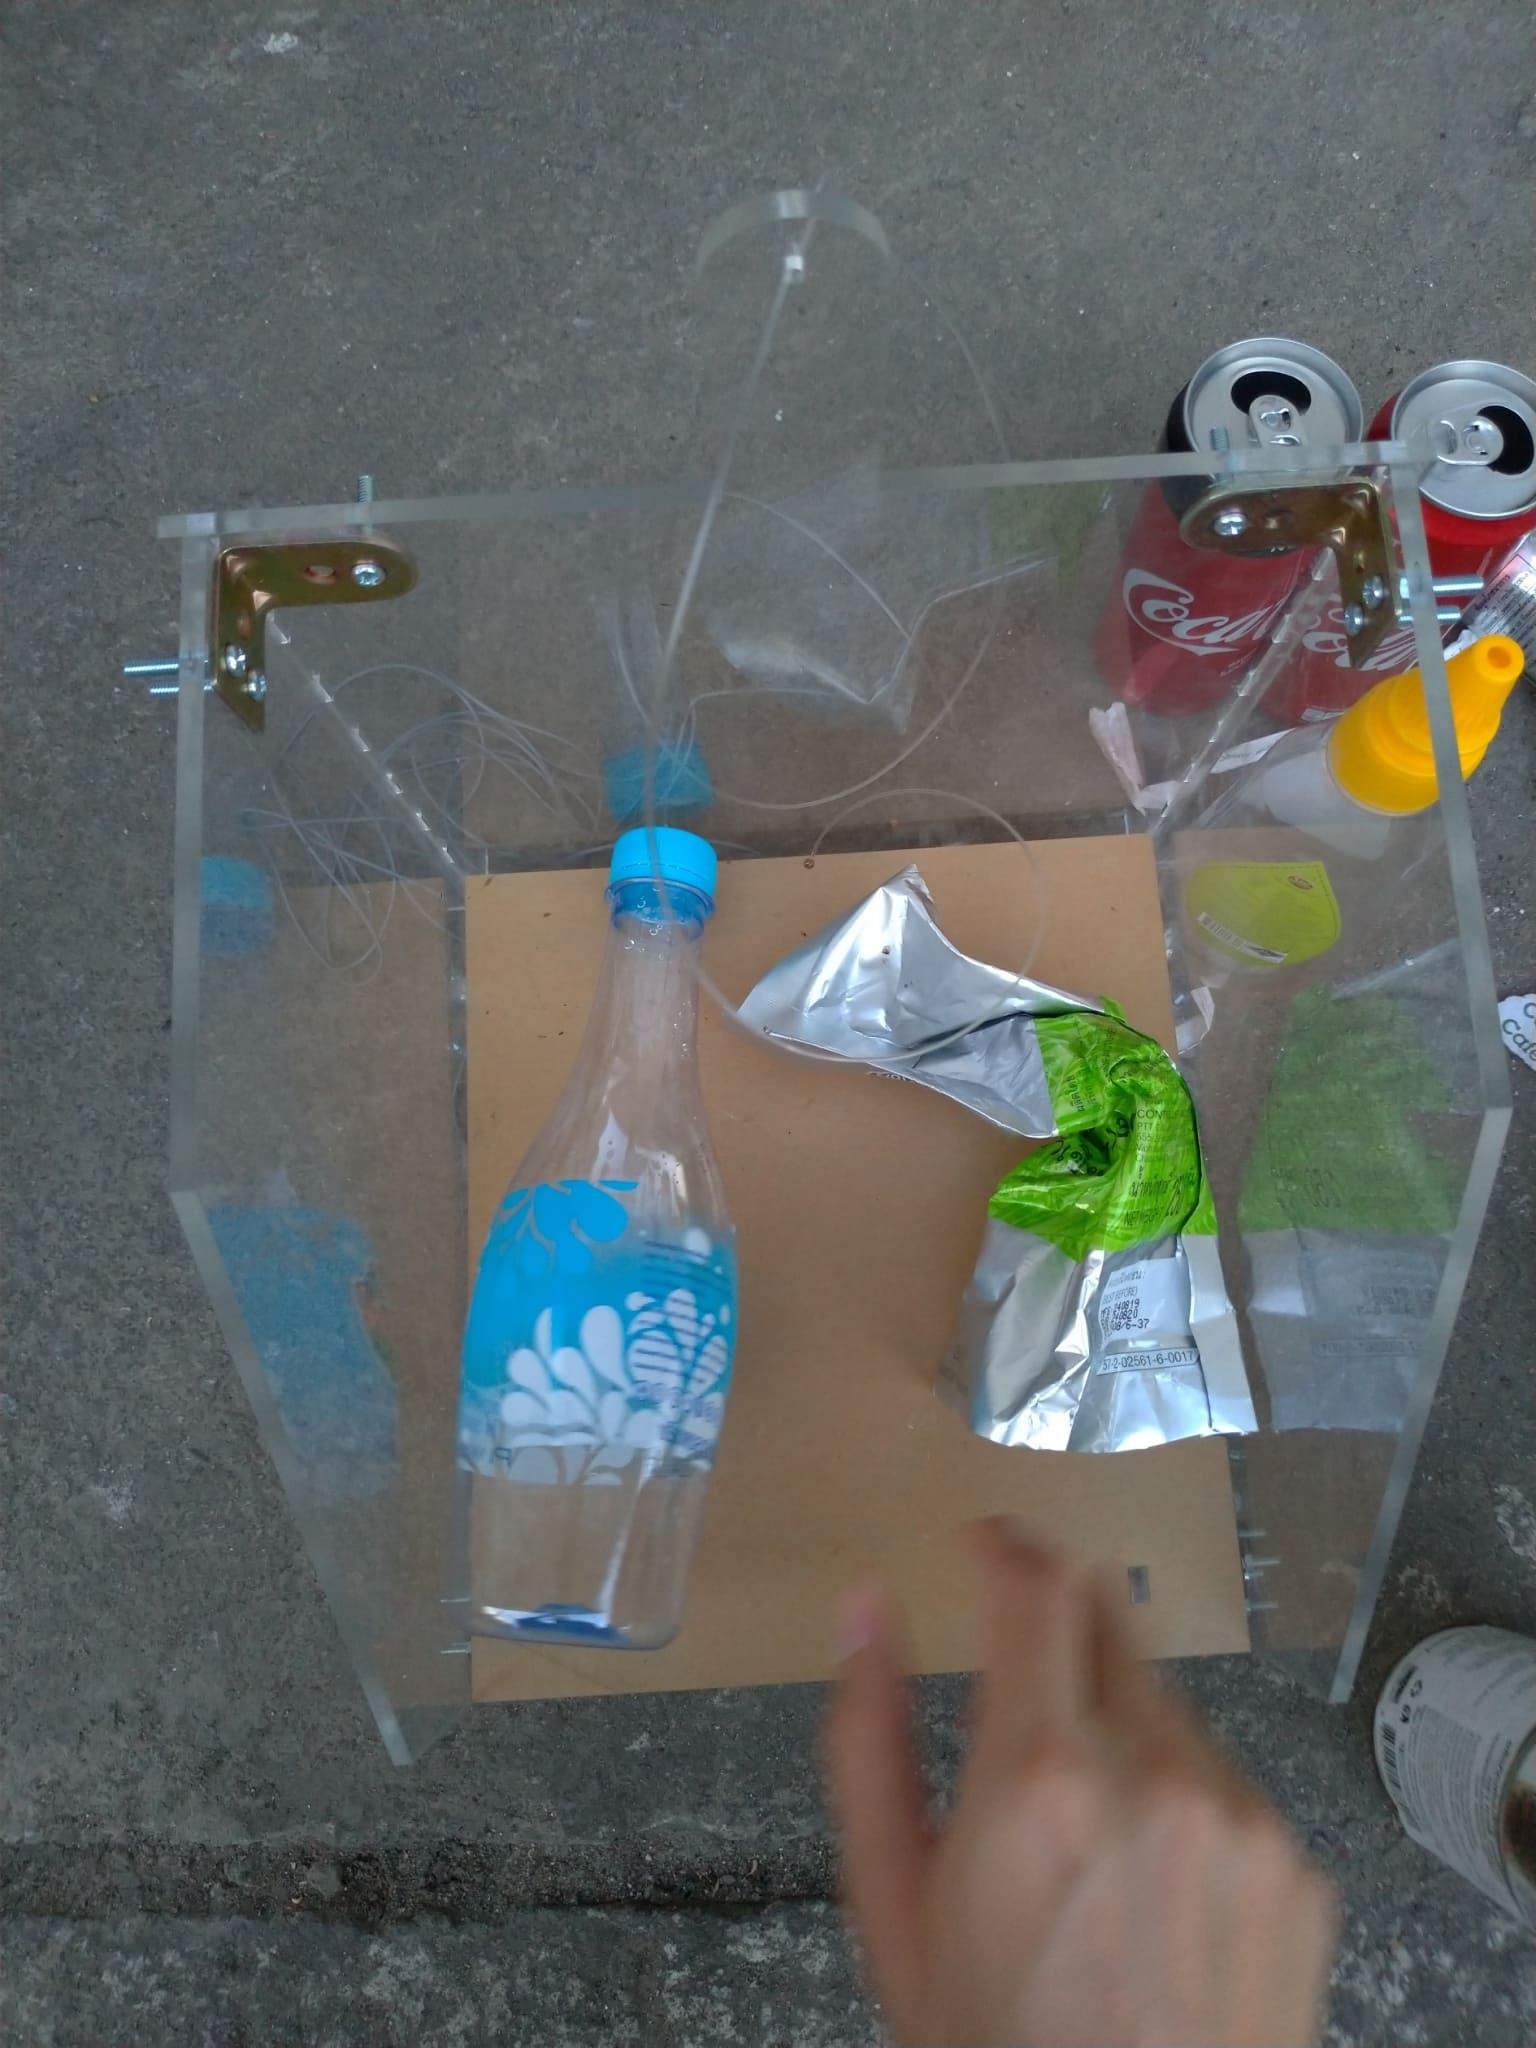AlCan: (1089, 342, 1367, 787), (1370, 1625, 1536, 1904), (1370, 361, 1536, 624)
Others: (724, 874, 1260, 1438)
PlasticBottle: (434, 829, 728, 1642), (1141, 642, 1515, 1009)
